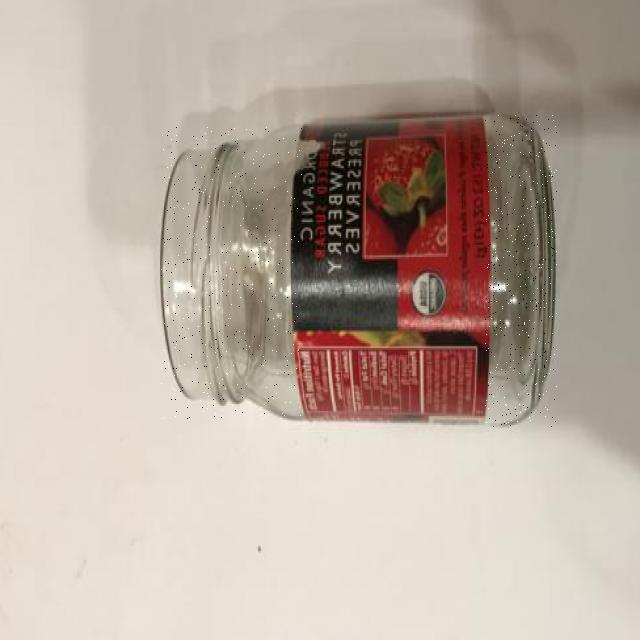glass: (161, 127, 303, 419), (486, 115, 557, 426)
